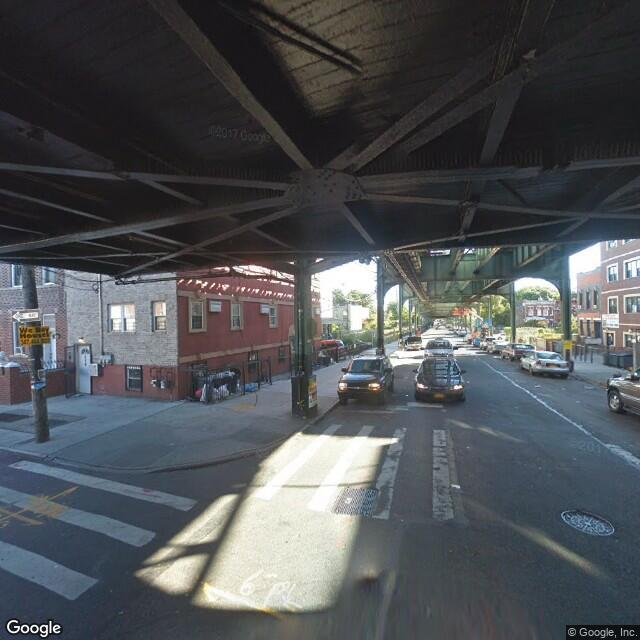litter: (450, 481, 462, 490)
